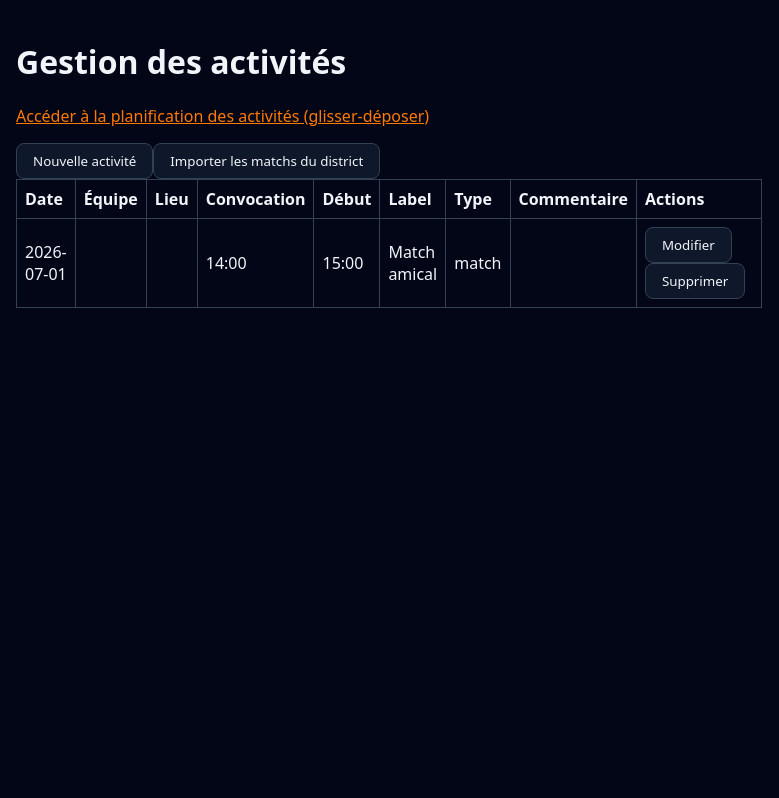
Scenario: AdminActivitesPage › ouvre le formulaire en mode création quand on clique sur "Nouvelle activité"
Click the button "Nouvelle activité". click: point(85, 161)
box: [16,143,153,179]
(page scrolled)
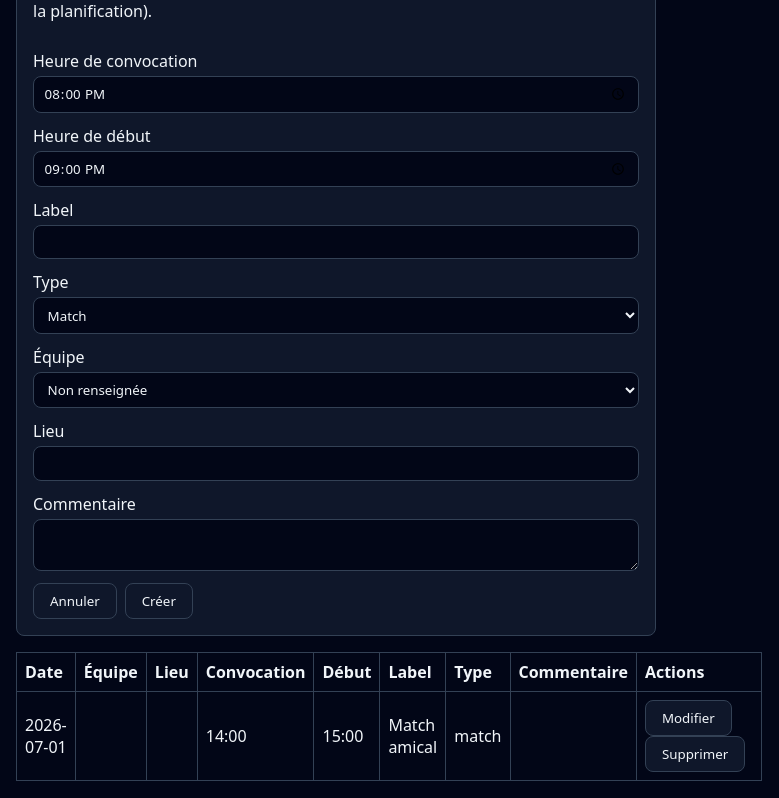
Check: the button "Créer" is shown, box [125,583,193,619]
Check: the button "Nouvelle activité" is gone
